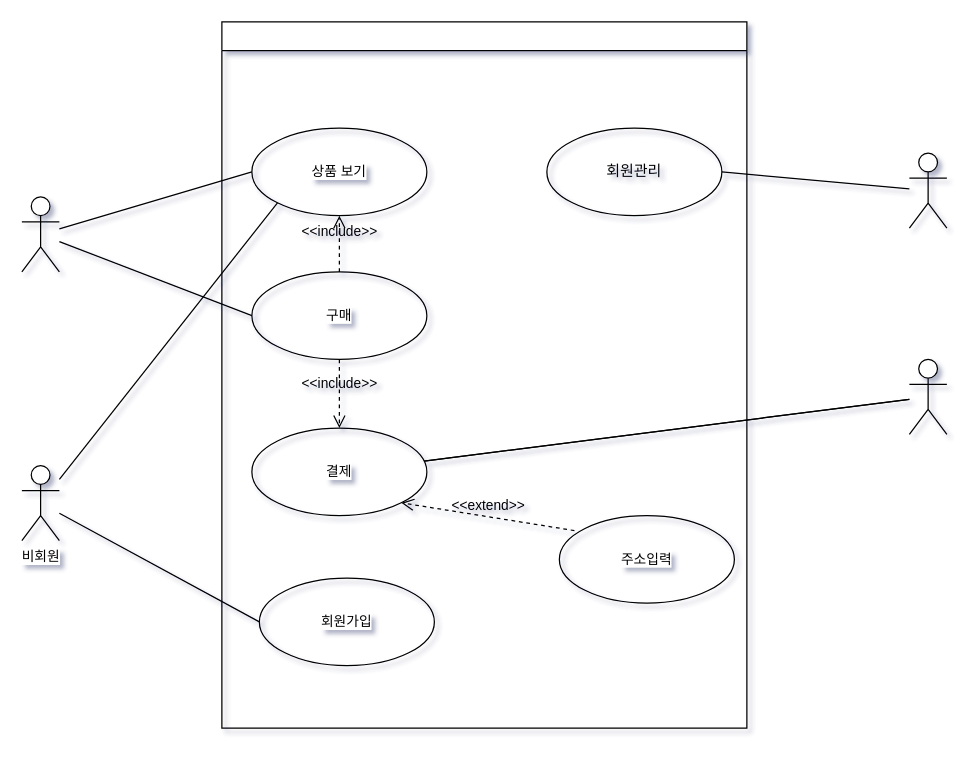
Image size: 978x758. Some labels were removed from this diagram. Here are the shapes that lost their labels. From the top down, the box of each, then its label:
(908, 152, 947, 228): 관리자
(21, 196, 59, 272): 회원
(221, 21, 747, 728): 온라인 쇼핑
(908, 358, 947, 434): PG
